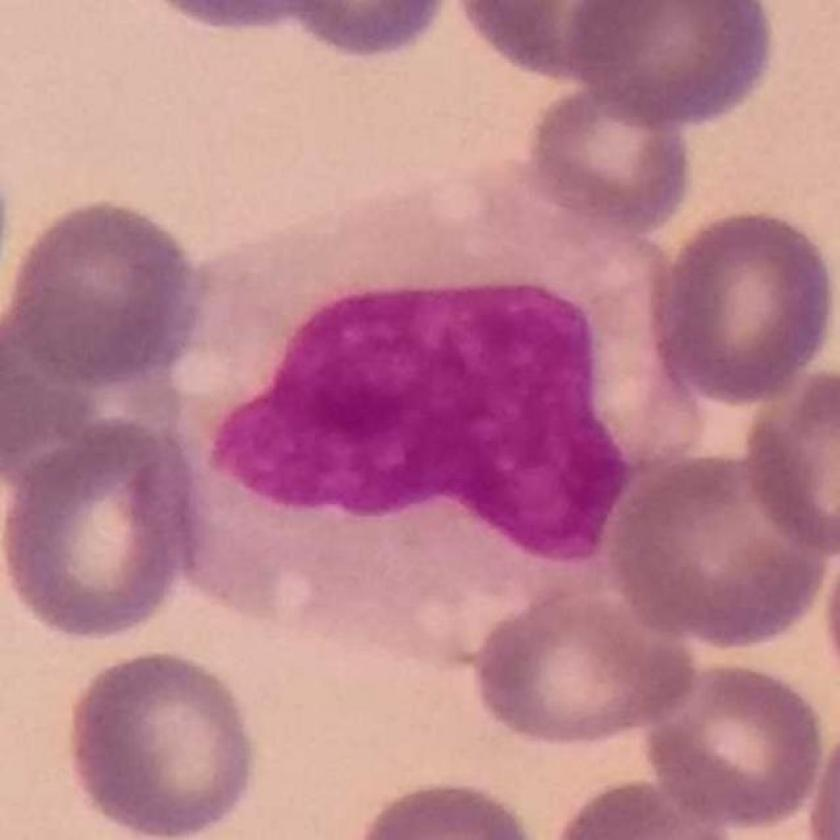monocyte: (160, 149, 719, 655)
